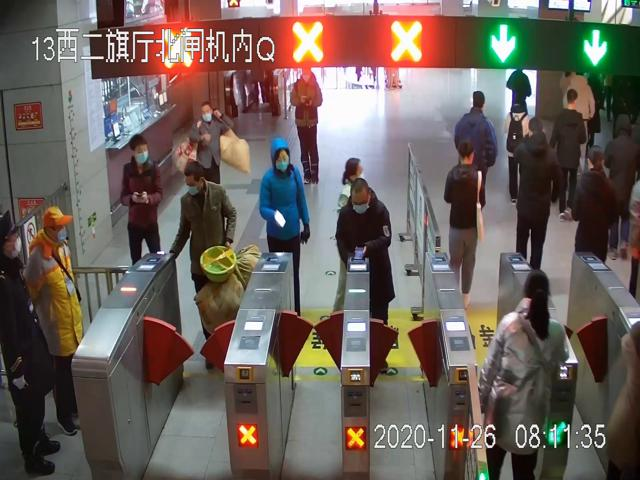person: (23, 205, 87, 437), (174, 160, 238, 366), (338, 178, 395, 373), (257, 136, 310, 319), (515, 114, 561, 276), (445, 139, 486, 312), (119, 133, 164, 266), (291, 68, 324, 187), (192, 101, 233, 187)
